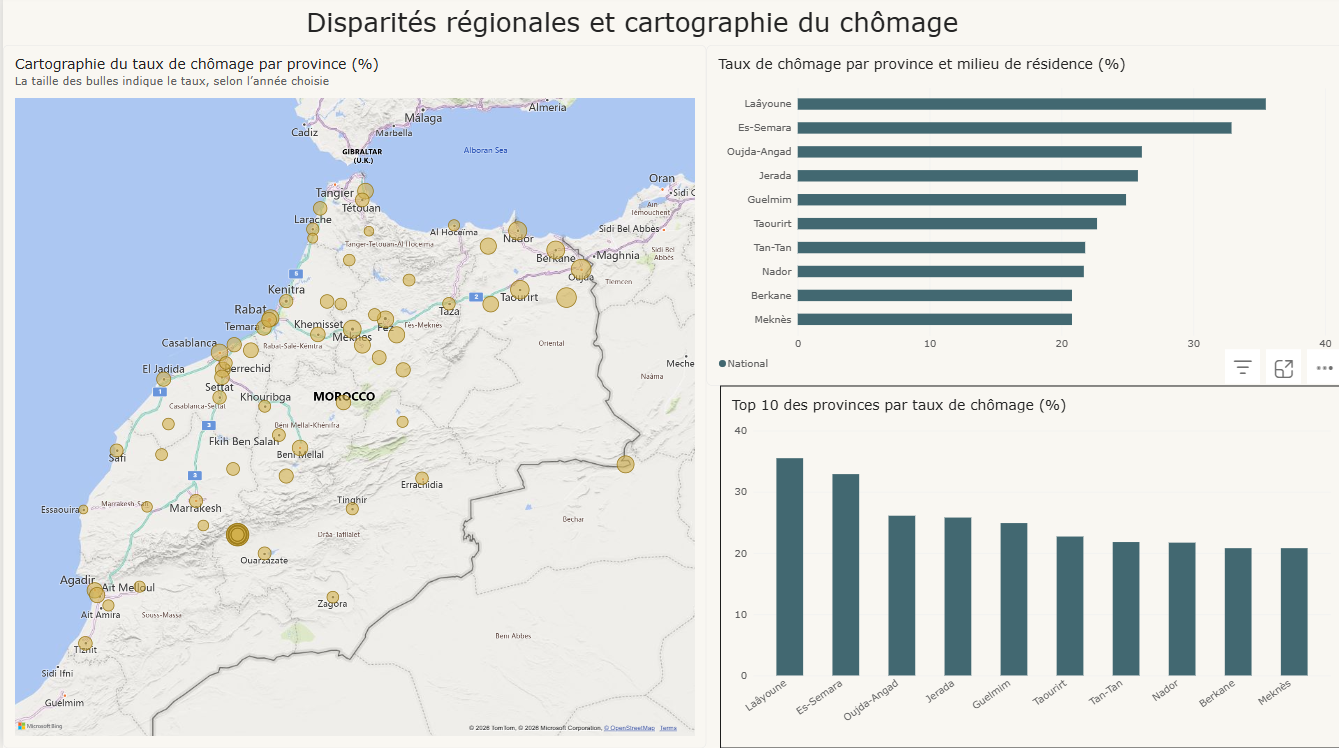

This screenshot's page, from the dashboard's own definition file:
{"tool":"powerbi","page":{"name":"Disparités régionales et cartographie du chômage","canvas":[1920,1080],"ordinal":1},"visuals":[{"type":"map","title":"Cartographie du taux de chômage par province (%)","fields":{"Category":["Chomage_Province_Milieu.Location"],"Size":["Chomage_Province_Milieu.Chomage_Province_Milieu(%)"]},"box":[0,73.2,1007.6,1007.6],"z":0},{"type":"clusteredBarChart","title":"Taux de chômage par province et milieu de résidence (%)","fields":{"Category":["Chomage_Province_Milieu.Provinces/Préfectures"],"Series":["Chomage_Province_Milieu.Milieu"],"Y":["Chomage_Province_Milieu.Chomage_Province_Milieu(%)"]},"box":[1007.6,73.2,912.5,488],"z":1000},{"type":"textbox","box":[351.3,0,1097.9,73.2],"z":6000},{"type":"lineClusteredColumnComboChart","title":"Top 10 des provinces par taux de chômage (%)","fields":{"Category":["Chomage_Province_Milieu.Provinces/Préfectures"],"Y":["Chomage_Province_Milieu.Chomage_Province_Milieu(%)"]},"box":[1027.2,561.2,893,519.7],"z":7001}]}

Visuals, with their boxes in screenshot pixels (x1, y1, x2, y2), scaled from the page's 1920x1080 canvas onto the 1339x748 screenshot:
"Cartographie du taux de chômage par province (%)" map: [0,51,703,747]
"Taux de chômage par province et milieu de résidence (%)" clusteredBarChart: [703,51,1338,389]
textbox: [245,0,1011,51]
"Top 10 des provinces par taux de chômage (%)" lineClusteredColumnComboChart: [716,389,1338,747]
